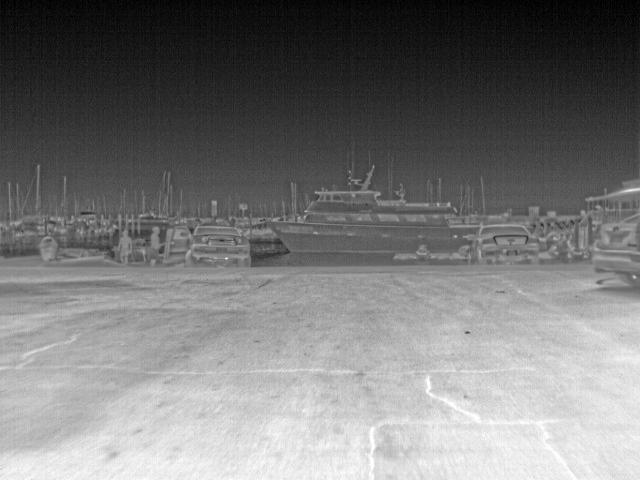car: (163, 222, 251, 268), (591, 210, 640, 291), (463, 223, 542, 266)
person: (146, 225, 166, 268), (117, 230, 135, 265)
